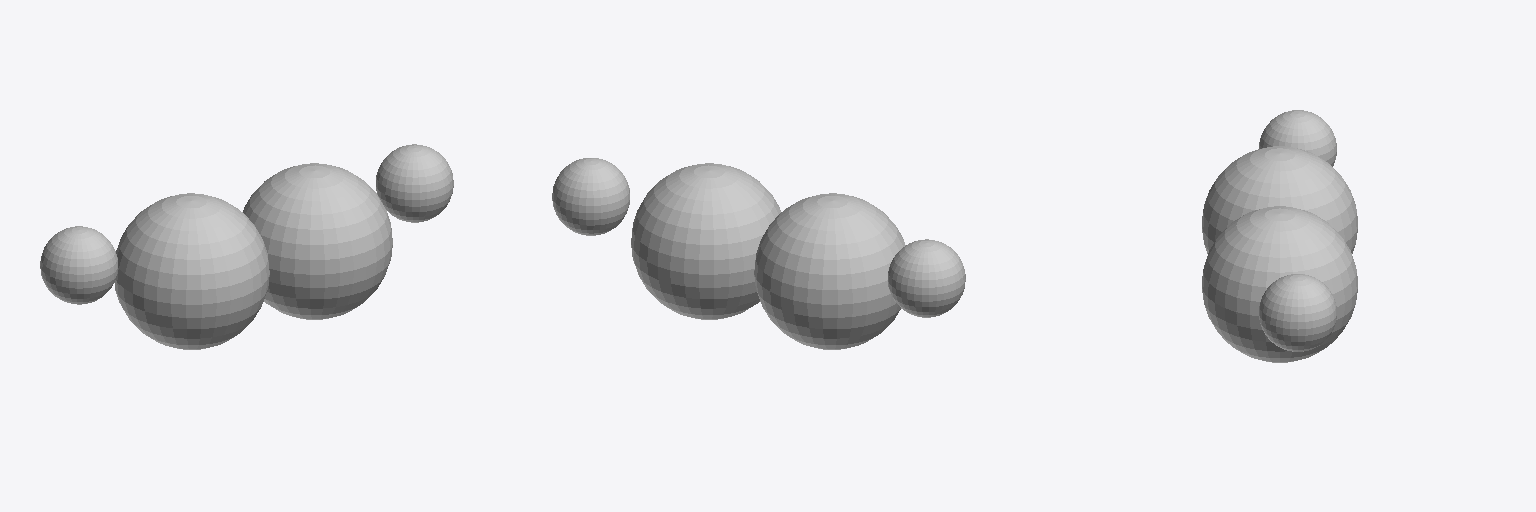
File: mesh_eyes.obj
3 views of the same model, side by side, from view 1: azimuth 30°, elevation 25°; view 2: azimuth 150°, elevation 25°; view 3: azimuth 270°, elevation 25° (orthographic).
Parts seen in each view (by area): view 1: Sphere.017_Sphere.001, Sphere.018_Sphere.008, Sphere.020_Sphere.012, Sphere.019_Sphere.009; view 2: Sphere.017_Sphere.001, Sphere.018_Sphere.008, Sphere.019_Sphere.009, Sphere.020_Sphere.012; view 3: Sphere.018_Sphere.008, Sphere.017_Sphere.001, Sphere.019_Sphere.009, Sphere.020_Sphere.012.
Part boxes in pixels (left/top/right/bottom): Sphere.017_Sphere.001: left=114, top=193, right=269, bottom=349; Sphere.018_Sphere.008: left=243, top=163, right=392, bottom=319; Sphere.020_Sphere.012: left=40, top=226, right=117, bottom=304; Sphere.019_Sphere.009: left=376, top=144, right=453, bottom=222; Sphere.017_Sphere.001: left=754, top=193, right=905, bottom=349; Sphere.018_Sphere.008: left=631, top=163, right=780, bottom=319; Sphere.019_Sphere.009: left=552, top=158, right=629, bottom=235; Sphere.020_Sphere.012: left=888, top=239, right=965, bottom=317; Sphere.018_Sphere.008: left=1202, top=206, right=1357, bottom=362; Sphere.017_Sphere.001: left=1202, top=146, right=1357, bottom=253; Sphere.019_Sphere.009: left=1259, top=274, right=1336, bottom=351; Sphere.020_Sphere.012: left=1259, top=110, right=1336, bottom=166.
Bounding box in the file's own units: 0.8908 × 0.3 × 0.3.